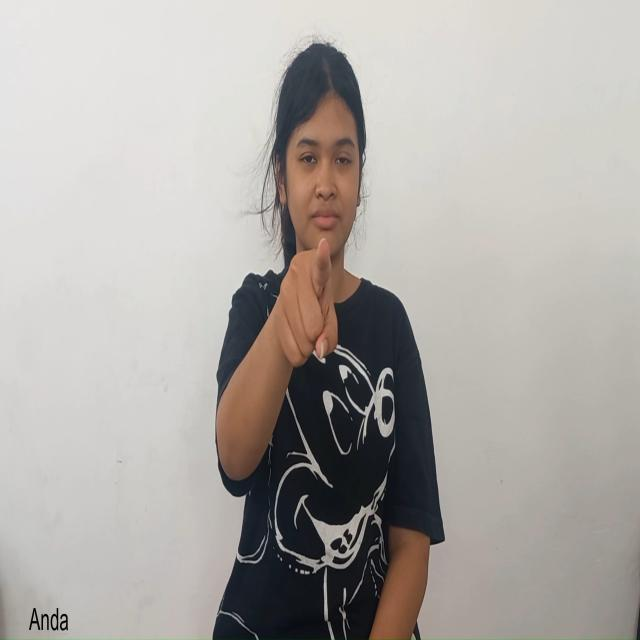Anda -BISINDO-: (260, 228, 372, 398)
